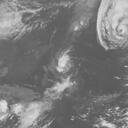cyclone: (95, 1, 127, 50), (56, 50, 78, 75)
